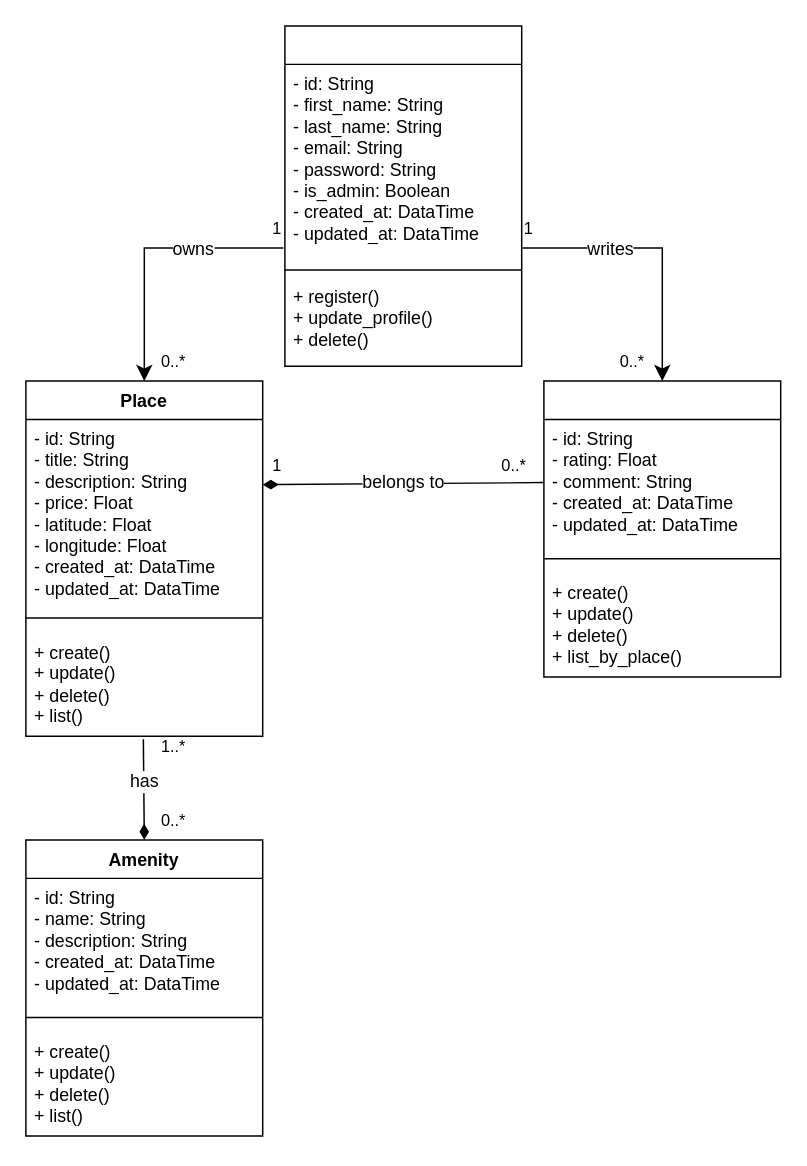
Some shapes in this 807 by 1166 pixel diagram are drawn without their labels. The shapes that lost their labels are listed below. From the top down, each one's box as (x1, y1, x2, y2) in pixels, then its label:
(283, 24, 522, 366): User
(542, 380, 781, 677): Review
